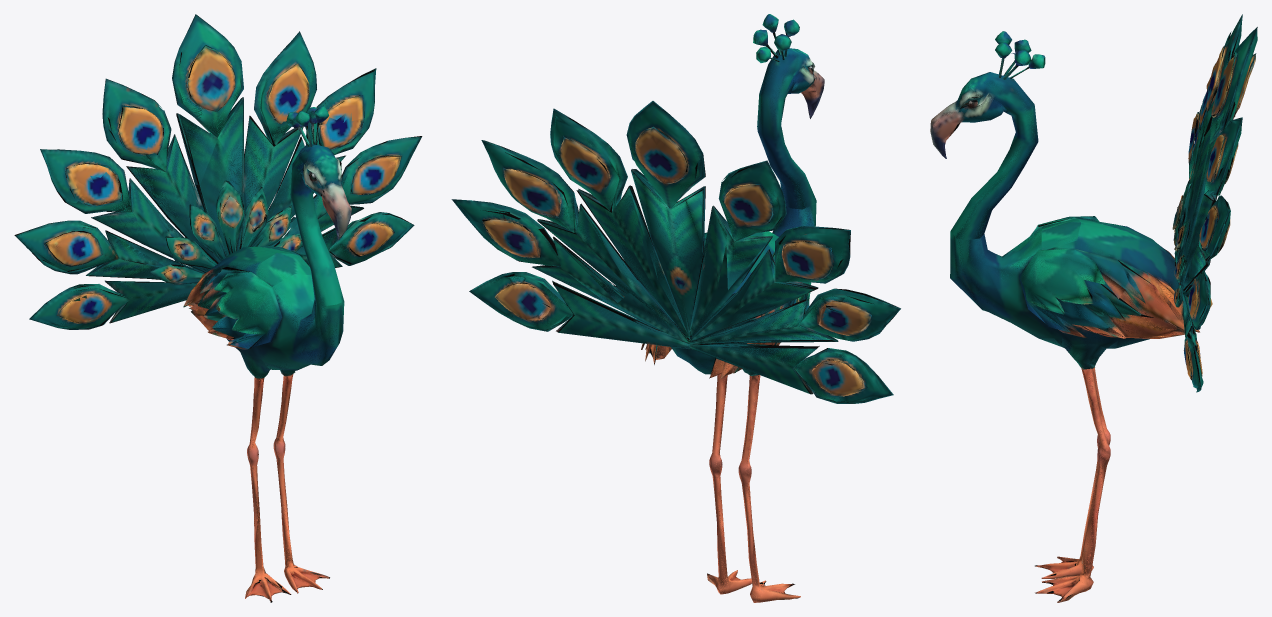
Rendered from creature_flamingo_peacock.fbx.
The picture shows the model from 3 angles, left to right: view 1: azimuth 30°, elevation 25°; view 2: azimuth 150°, elevation 25°; view 3: azimuth 270°, elevation 25°; orthographic projection. The views are drawn at different scales.
Parts seen in each view (by area): view 1: creature_flamingo_peacock_body, creature_flamingo_peacock_tail, creature_flamingo_peacock_leg_br, creature_flamingo_peacock_leg_bl, creature_flamingo_peacock_head, creature_flamingo_peacock_leg_fr, creature_flamingo_peacock_leg_fl; view 2: creature_flamingo_peacock_tail, creature_flamingo_peacock_body, creature_flamingo_peacock_leg_br, creature_flamingo_peacock_leg_bl, creature_flamingo_peacock_head, creature_flamingo_peacock_leg_fr, creature_flamingo_peacock_leg_fl; view 3: creature_flamingo_peacock_body, creature_flamingo_peacock_head, creature_flamingo_peacock_tail, creature_flamingo_peacock_leg_fl, creature_flamingo_peacock_leg_bl, creature_flamingo_peacock_leg_fr, creature_flamingo_peacock_leg_br.
Boxes of the visible parts, bbox=[...] form: creature_flamingo_peacock_body: bbox=[105, 108, 344, 370]; creature_flamingo_peacock_tail: bbox=[14, 14, 421, 235]; creature_flamingo_peacock_leg_br: bbox=[15, 172, 188, 329]; creature_flamingo_peacock_leg_bl: bbox=[283, 113, 421, 266]; creature_flamingo_peacock_head: bbox=[245, 106, 351, 306]; creature_flamingo_peacock_leg_fr: bbox=[240, 352, 291, 602]; creature_flamingo_peacock_leg_fl: bbox=[273, 370, 329, 593]; creature_flamingo_peacock_tail: bbox=[451, 101, 900, 326]; creature_flamingo_peacock_body: bbox=[541, 196, 816, 394]; creature_flamingo_peacock_leg_br: bbox=[723, 250, 898, 403]; creature_flamingo_peacock_leg_bl: bbox=[454, 200, 650, 332]; creature_flamingo_peacock_head: bbox=[750, 14, 824, 243]; creature_flamingo_peacock_leg_fr: bbox=[738, 368, 800, 602]; creature_flamingo_peacock_leg_fl: bbox=[707, 374, 752, 594]; creature_flamingo_peacock_body: bbox=[950, 93, 1212, 348]; creature_flamingo_peacock_head: bbox=[930, 31, 1080, 254]; creature_flamingo_peacock_tail: bbox=[1203, 14, 1257, 311]; creature_flamingo_peacock_leg_fl: bbox=[1035, 338, 1148, 602]; creature_flamingo_peacock_leg_bl: bbox=[1183, 212, 1210, 392]; creature_flamingo_peacock_leg_fr: bbox=[1035, 367, 1110, 578]; creature_flamingo_peacock_leg_br: bbox=[1188, 77, 1210, 214].
Bounding box in the file's own units: 823 × 979 × 524.
1 material, 1 textured.
